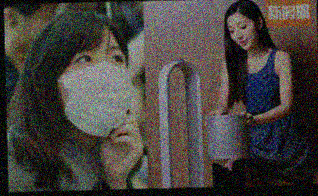with_mask: (57, 43, 134, 138)
without_mask: (225, 17, 259, 52)
